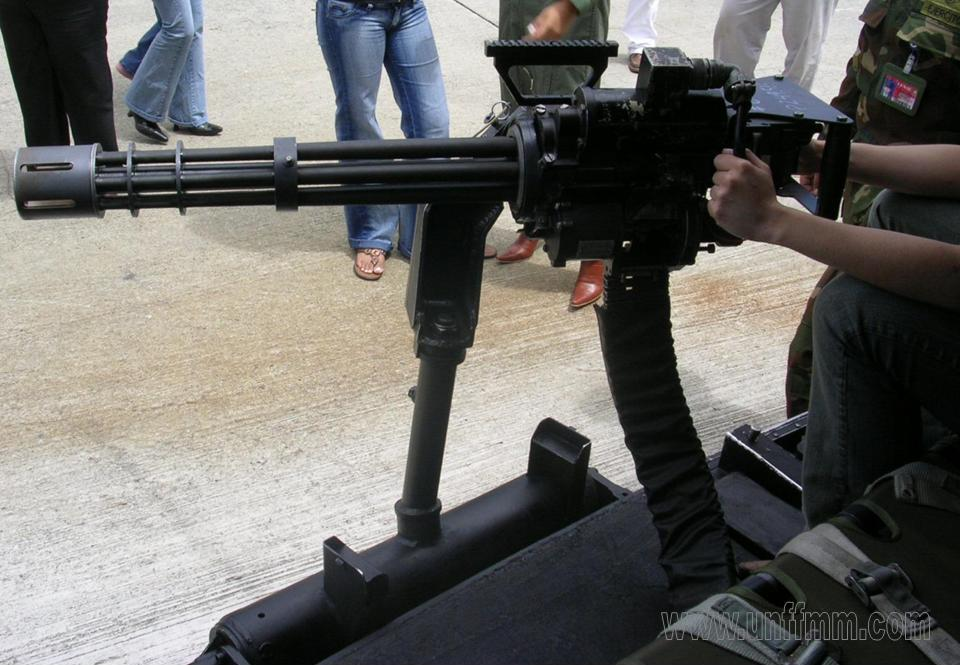rifle: (12, 38, 683, 283)
rifle in hand: (4, 47, 890, 315)
